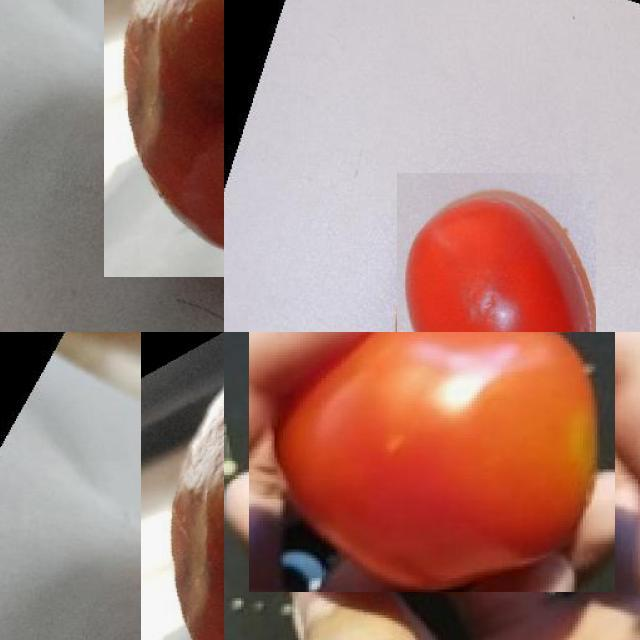Fresh Tomato: (248, 332, 615, 592), (397, 173, 595, 332)
Rotten Tomato: (104, 0, 224, 277), (141, 332, 224, 640)
